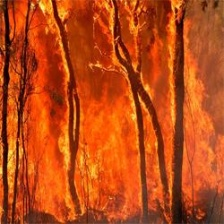fire: (6, 2, 222, 216)
